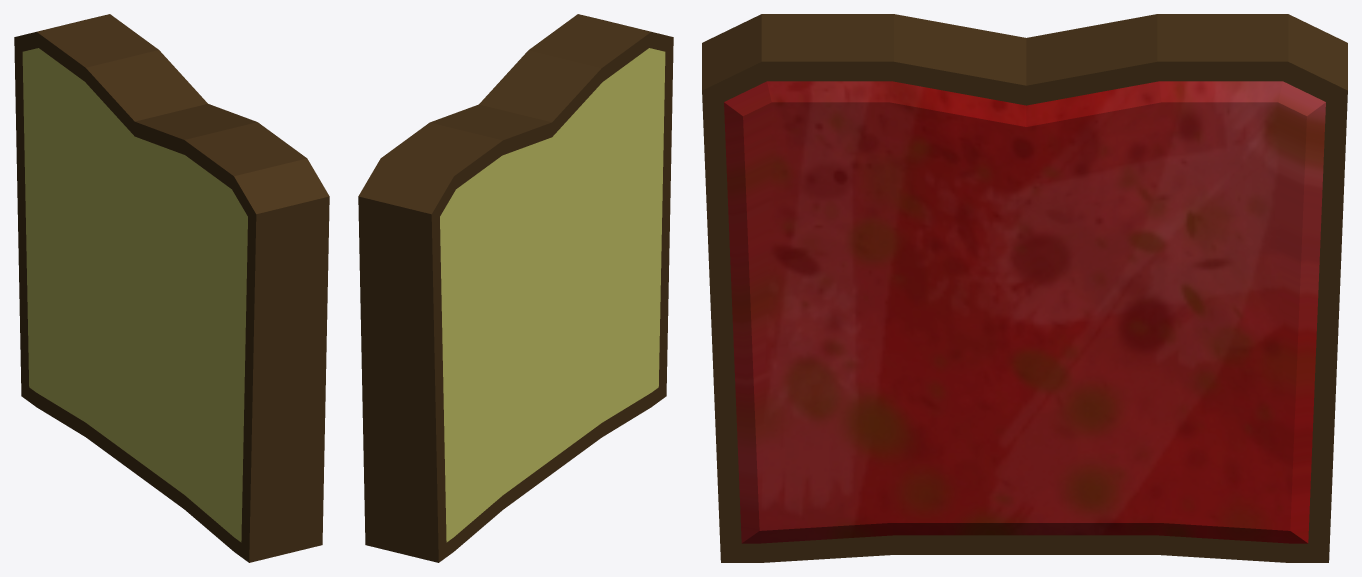
File: Toast.obj
3 renders of one model, left to right at view 1: azimuth 30°, elevation 25°; view 2: azimuth 150°, elevation 25°; view 3: azimuth 270°, elevation 25°, orthographic. The views are drawn at different scales.
Parts seen in each view (by area): view 1: Cube.001; view 2: Cube.001; view 3: Cube.001.
Boxes of the visible parts, box(x1,y1,x2,y2) form: Cube.001: box(14, 14, 329, 562); Cube.001: box(358, 14, 673, 562); Cube.001: box(702, 14, 1347, 562).
Size of the model in its own units: 0.451 by 2.02 by 2.37.
3 materials, 1 textured.
